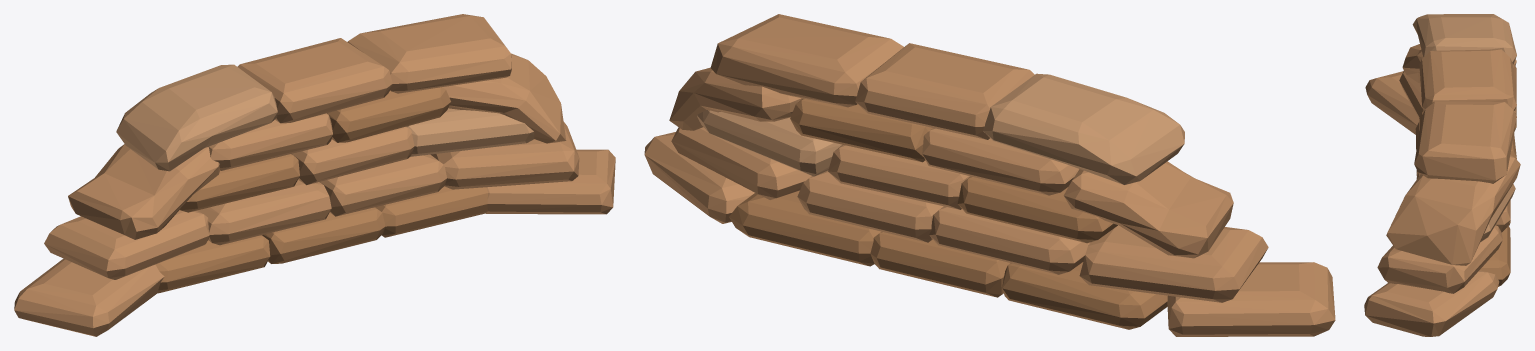
The model's file is Sand_01.fbx.
The picture shows the model from 3 angles, left to right: view 1: azimuth 30°, elevation 25°; view 2: azimuth 150°, elevation 25°; view 3: azimuth 270°, elevation 25°; orthographic projection. The views are drawn at different scales.
Parts seen in each view (by area): view 1: Sand_01; view 2: Sand_01; view 3: Sand_01.
Boxes of the visible parts, x1,y1,x2,y2 form: Sand_01: (14, 14, 615, 336); Sand_01: (644, 14, 1335, 336); Sand_01: (1364, 14, 1520, 336).
Bounding box in the file's own units: 326 × 91.03 × 83.48.
